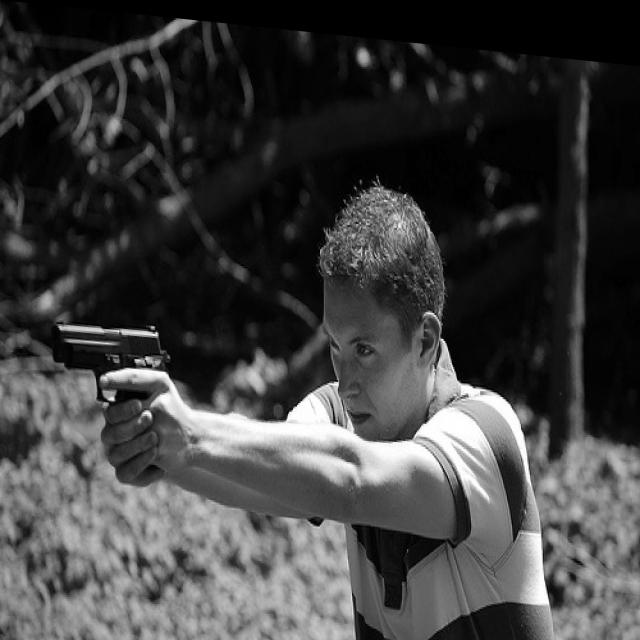handgun: (52, 313, 174, 409)
